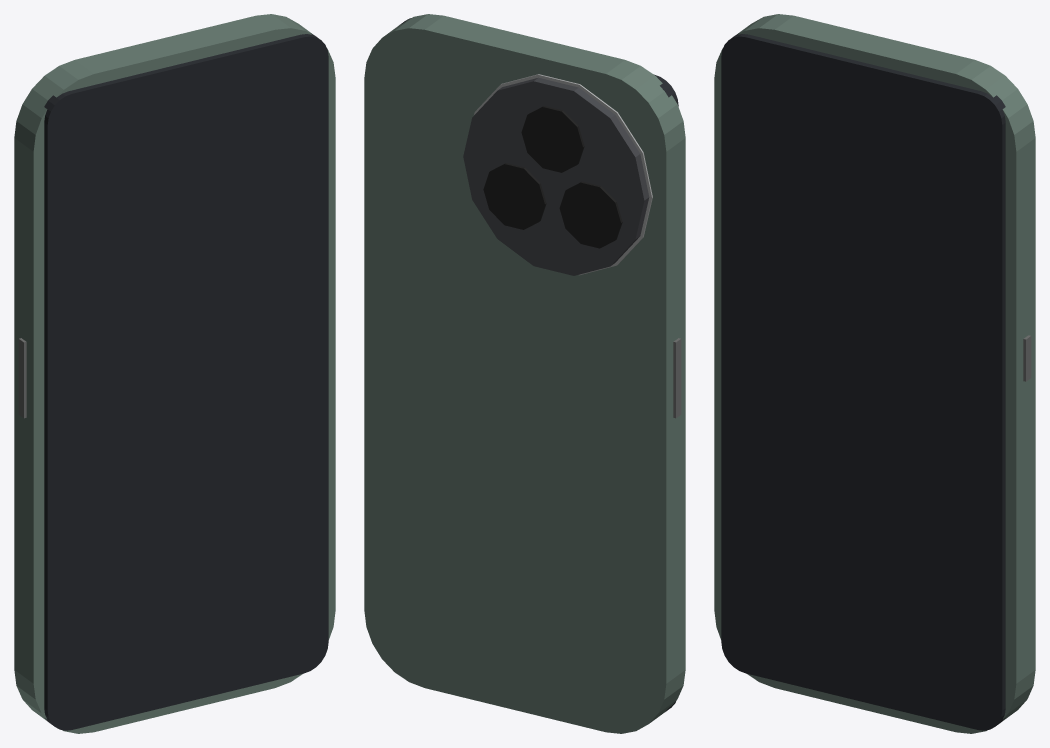
The model's file is 31_huawei_mate_70_pro.glb.
3 views of the same model, side by side, from view 1: azimuth 30°, elevation 25°; view 2: azimuth 150°, elevation 25°; view 3: azimuth 330°, elevation 25° (orthographic).
Visible parts, largest first — view 1: geometry_1, geometry_0, geometry_3; view 2: geometry_0, geometry_5, geometry_7, geometry_9, geometry_11, geometry_6, geometry_3; view 3: geometry_1, geometry_0.
Boxes of the visible parts, x1,y1,x2,y2 form: geometry_1: (44,33,328,730); geometry_0: (14,14,335,733); geometry_3: (18,338,26,418); geometry_0: (364,14,685,733); geometry_5: (463,77,649,275); geometry_7: (521,106,584,172); geometry_9: (559,181,622,248); geometry_11: (483,163,546,229); geometry_6: (474,74,652,275); geometry_3: (673,338,681,418); geometry_1: (721,33,1005,730); geometry_0: (714,14,1035,733).
Size of the model in its own units: 0.2433 by 0.5007 by 0.0414.
